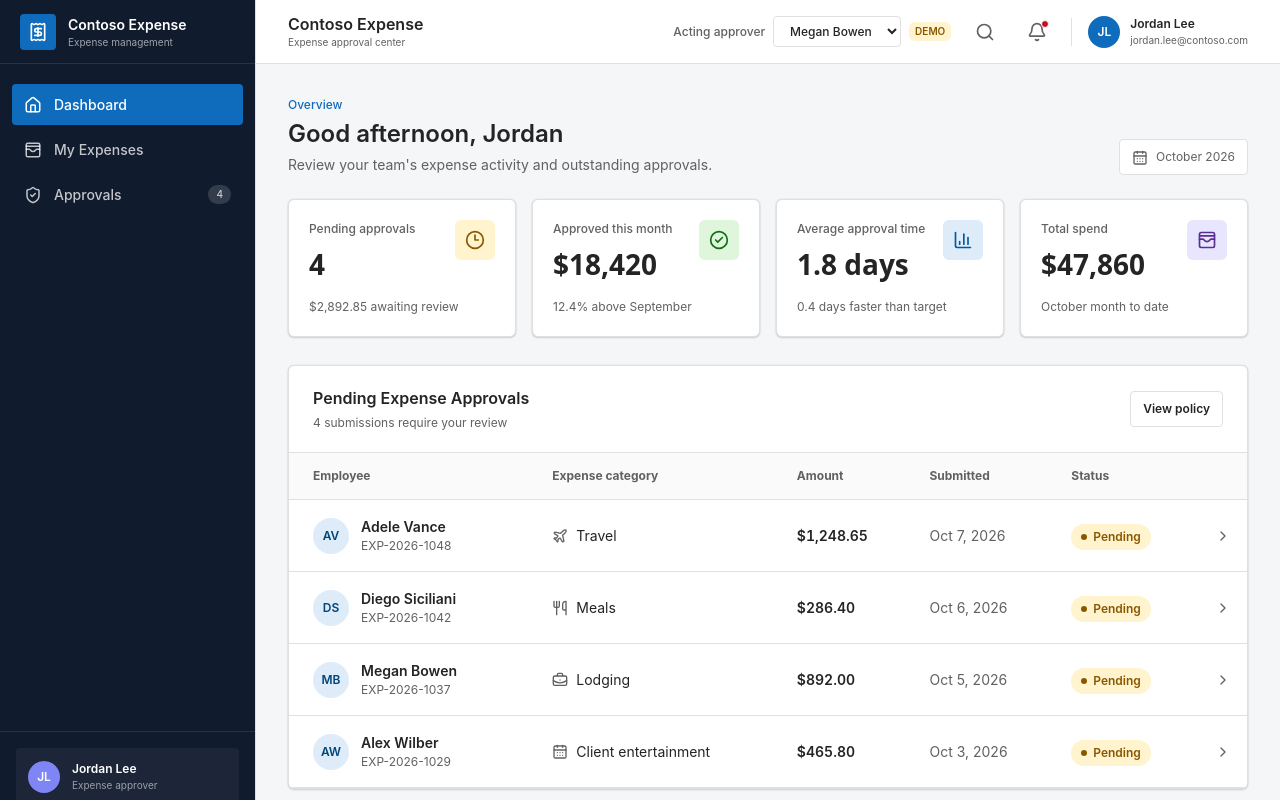
App › renders server-returned assistance for the assigned variant
This screenshot has width=1280, height=800.
Click the button "DS Diego Siciliani EXP-2026-1042".
click(384, 608)  # box x1=313 y1=588 x2=456 y2=627
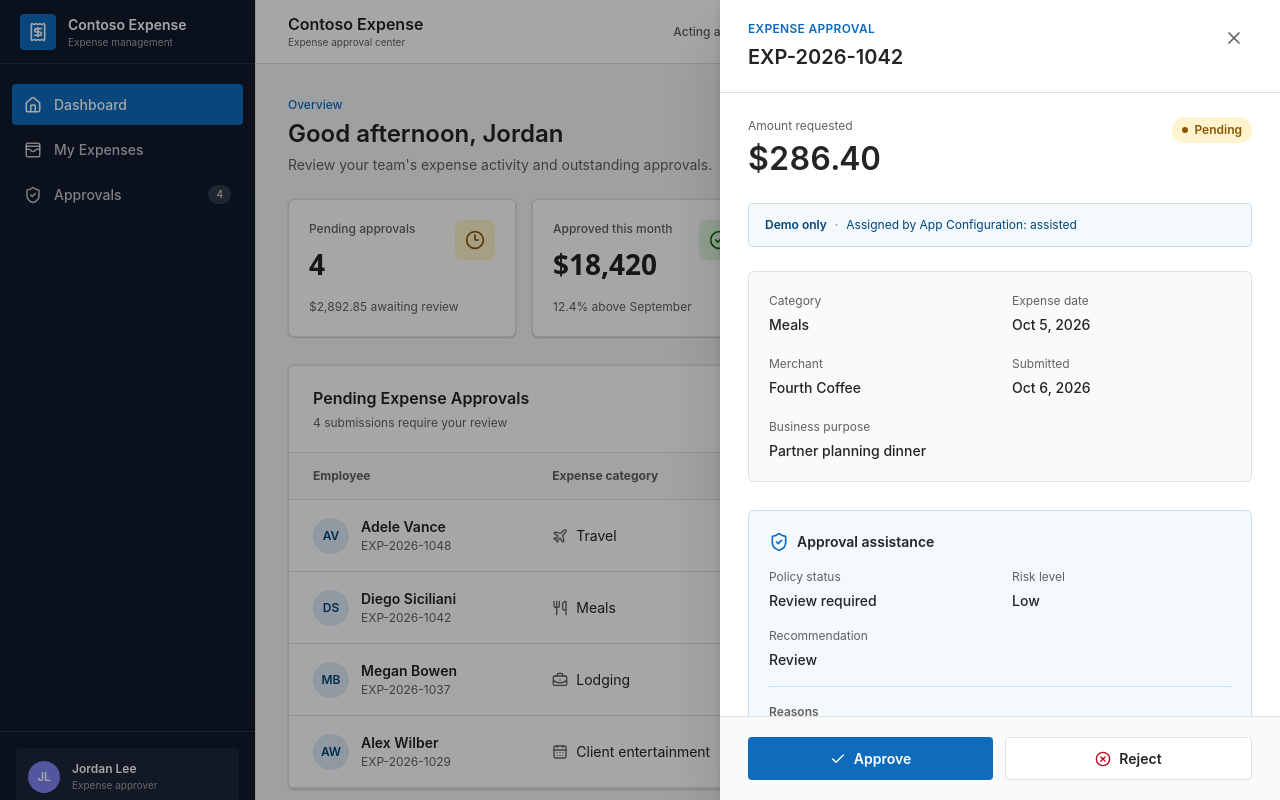
Expected: the heading "Approval assistance" is shown, x1=797 y1=531 x2=934 y2=552
Expected: the text "Review required" is shown, x1=769 y1=592 x2=877 y2=609
